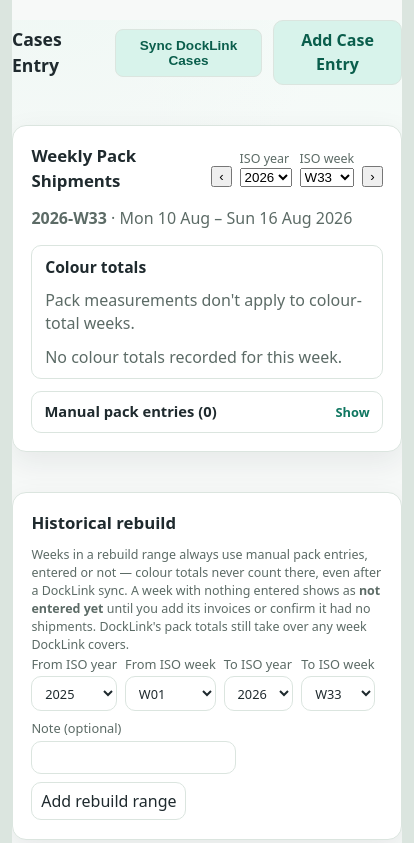
Test: desktop Sync DockLink Cases — pinned behaviour › on success shows both summaries beside the button
Click the button "Sync DockLink Cases".
click(188, 52)  # box [115, 28, 262, 76]
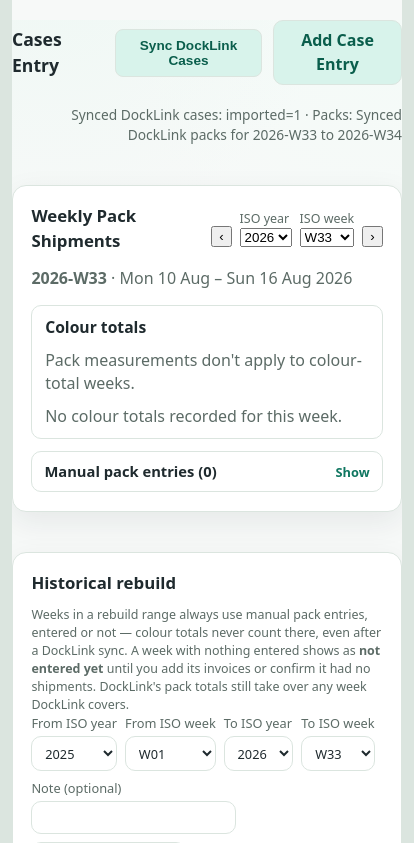
Result: the message shows "Synced DockLink cases: imported=1 · Packs: Synced DockLink packs for 2026-W33 to 2026-W34" at [71, 105, 402, 144]
